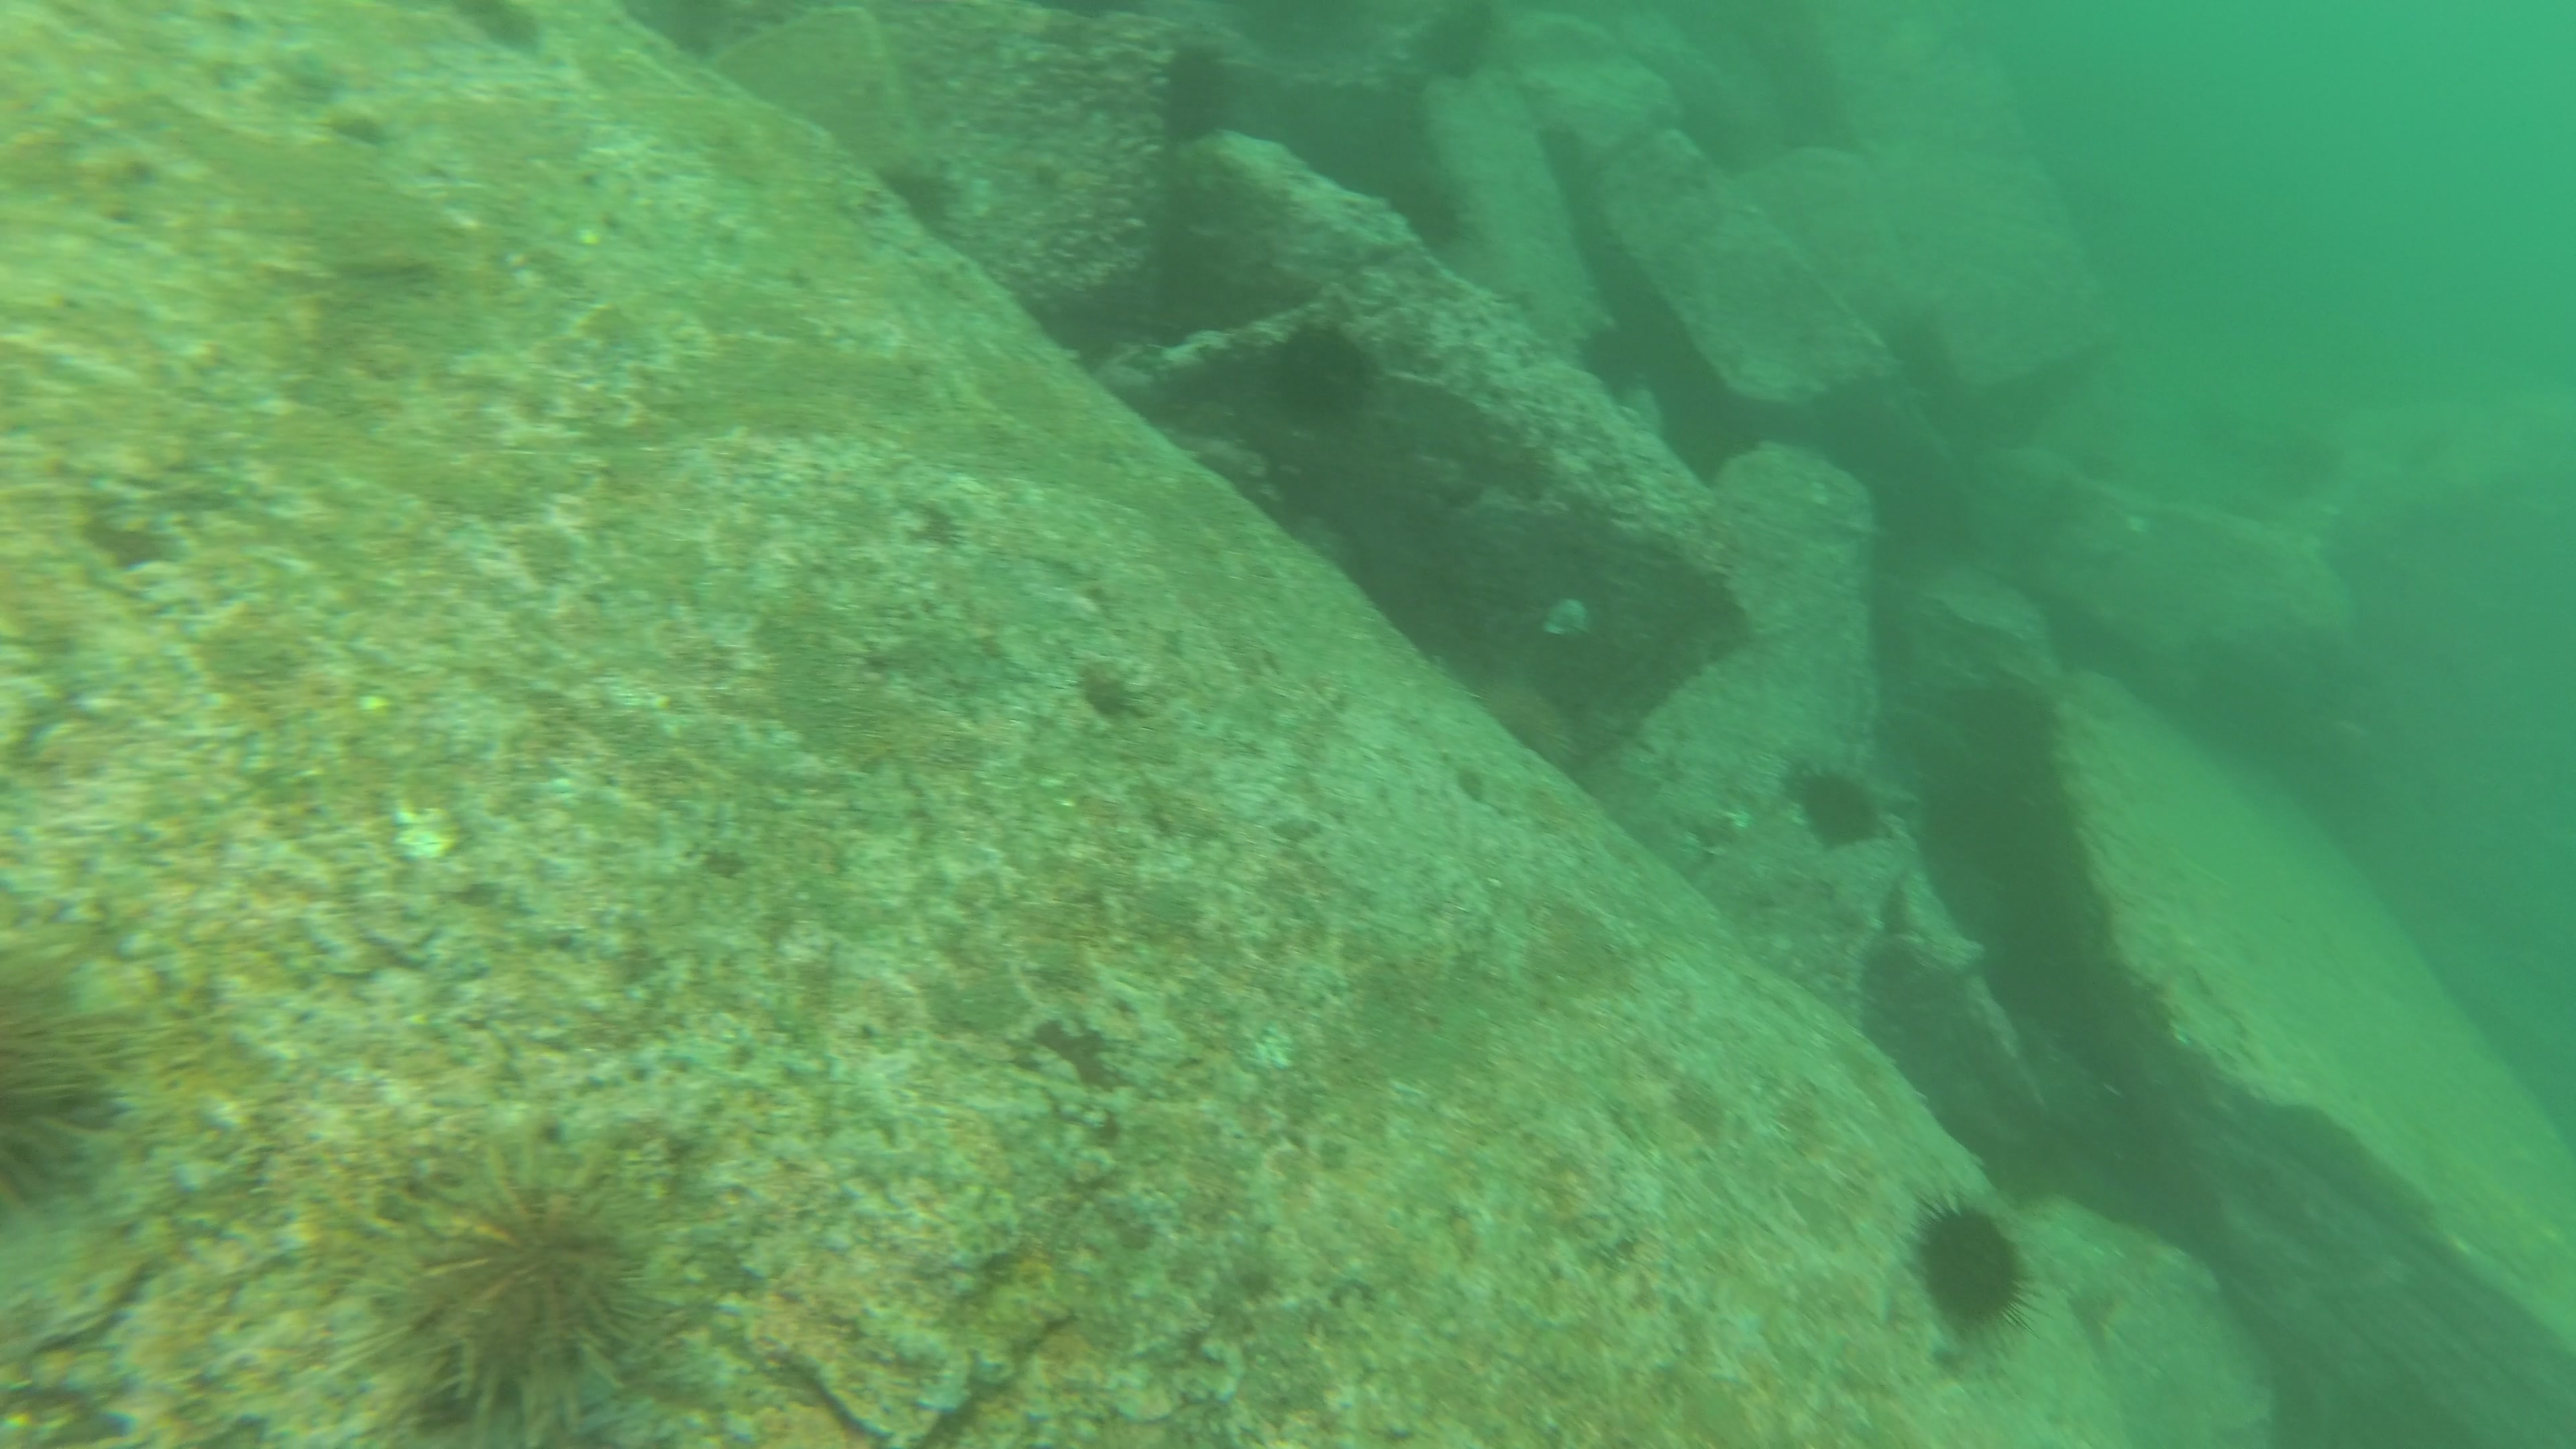echinus: (315, 1134, 699, 1433), (4, 943, 104, 1196), (1481, 561, 1642, 695), (1897, 1200, 2035, 1339), (1267, 315, 1387, 433), (1782, 752, 1879, 851), (1575, 311, 1651, 416), (1146, 42, 1221, 142)
